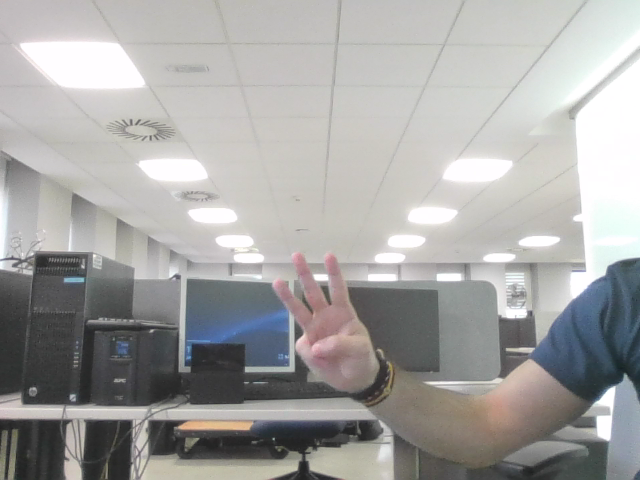3Dedos: (283, 264, 360, 359)
